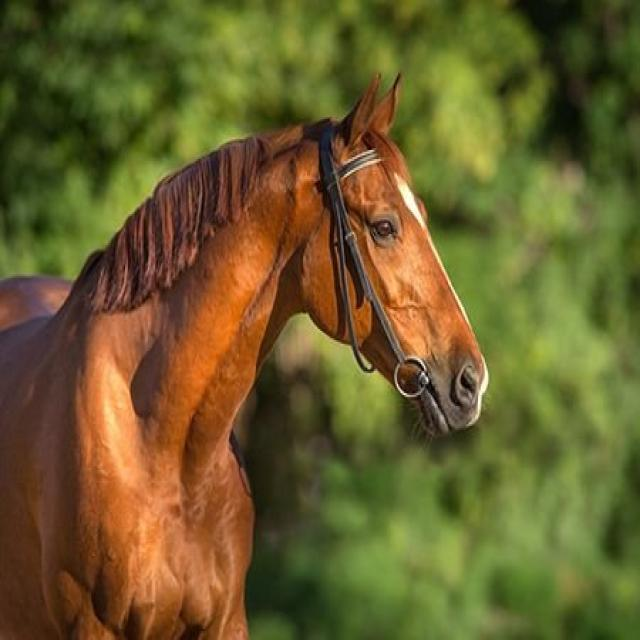Horse: (0, 81, 494, 640)
